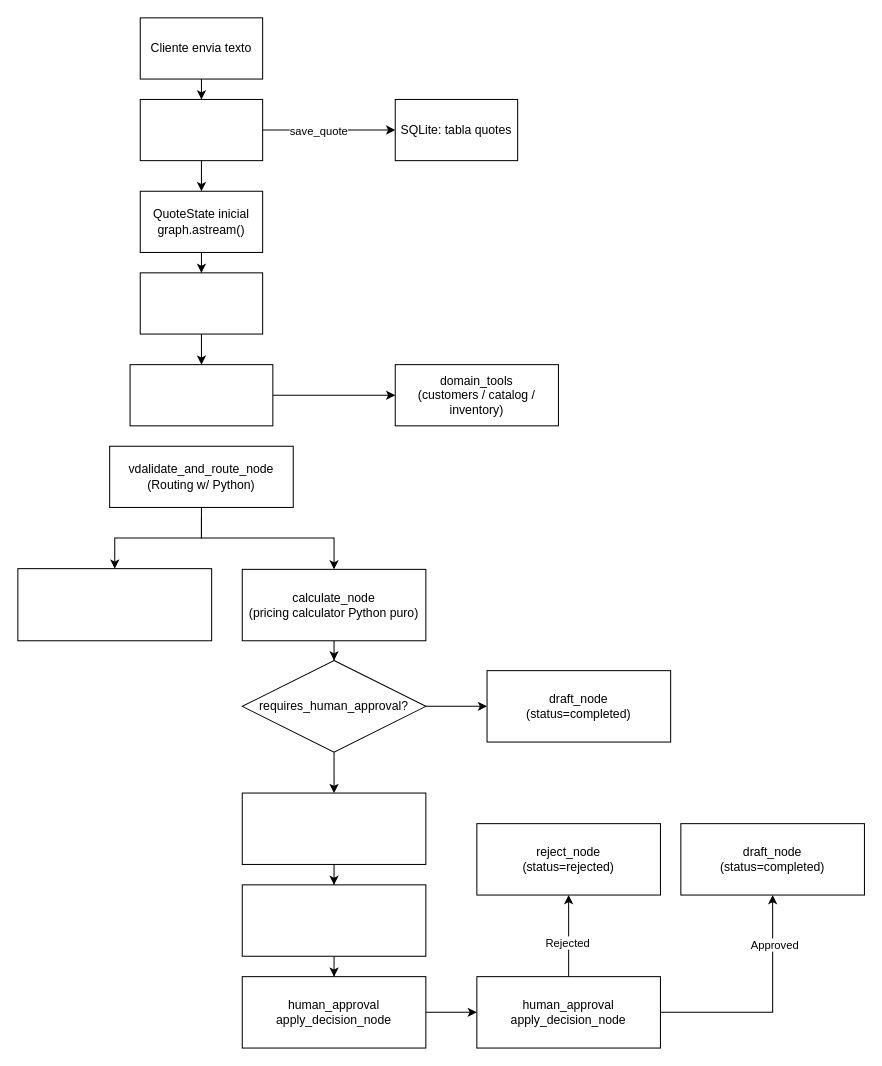
Image size: 882x1066. Some labels were removed from this diagram. The centre of each missing label's shape, as x and y in pixels:
"clarify_node (clarification / unknown / customer / unkown_product / no_stock)" goes at pixel 114 604.
"extract_intent_node (ChatAnthropic structured output)" goes at pixel 201 303.
"interrumpt (awaiting_approval)" goes at pixel 333 828.
"lookup_domain_node" goes at pixel 201 395.
"POST /quotes" goes at pixel 201 129.
"POST /resume (human_decisions)" goes at pixel 333 920.
